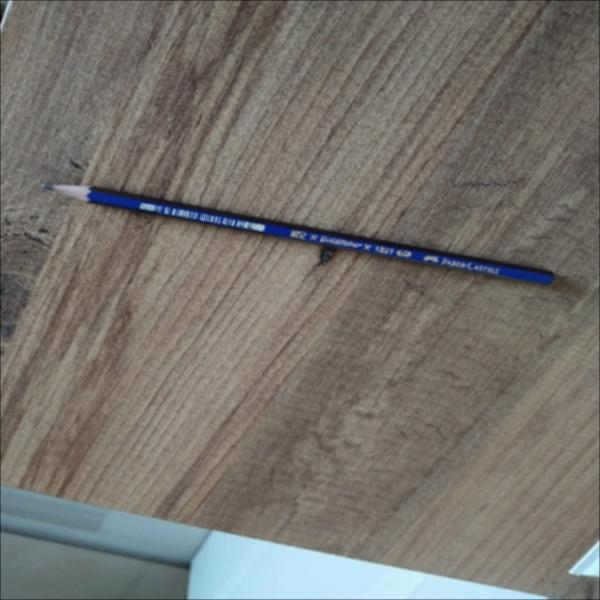pencil: (33, 172, 568, 296)
